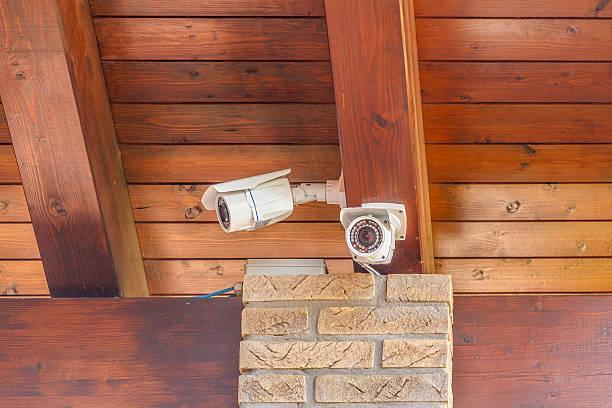camera: (188, 140, 314, 257), (319, 187, 433, 280)
